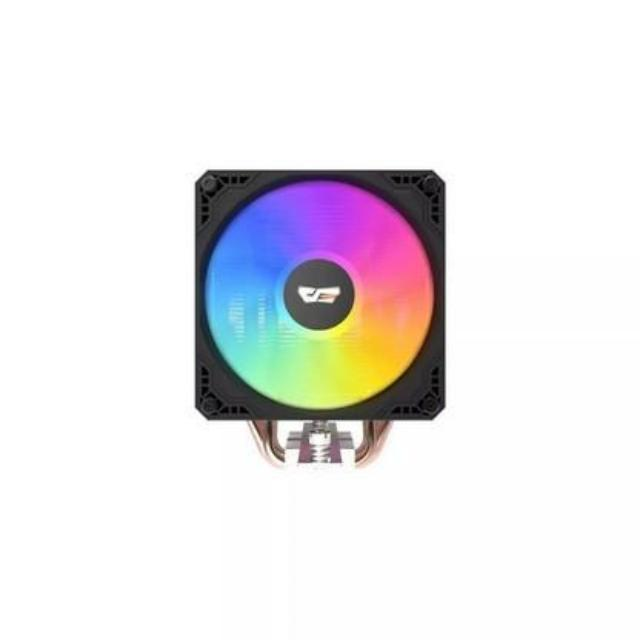CPU_Fan: (192, 164, 450, 467)
